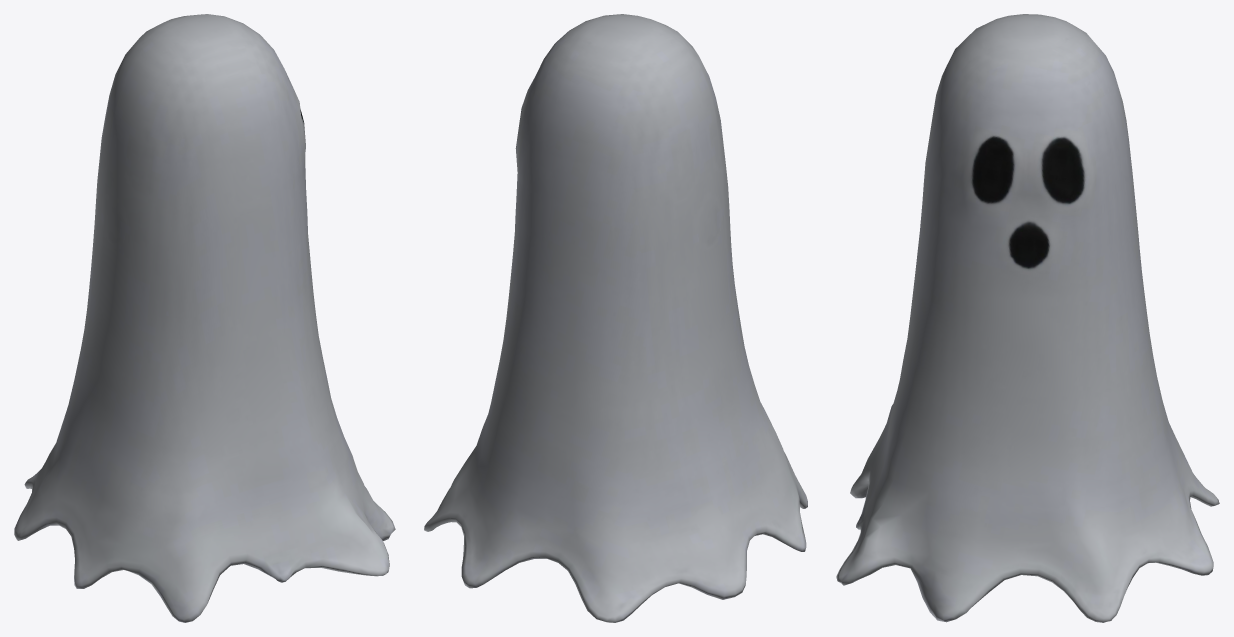
File: 2ffb1d081e93_ghost__3d_asset_0_g.fbx
3 renders of one model, left to right at view 1: azimuth 30°, elevation 25°; view 2: azimuth 150°, elevation 25°; view 3: azimuth 270°, elevation 25°, orthographic.
Parts seen in each view (by area): view 1: mesh; view 2: mesh; view 3: mesh.
Boxes of the visible parts, x1,y1,x2,y2 form: mesh: (14,14,395,622); mesh: (424,14,807,622); mesh: (836,14,1219,622).
Bounding box in the file's own units: 63.02 × 99.74 × 66.01.
